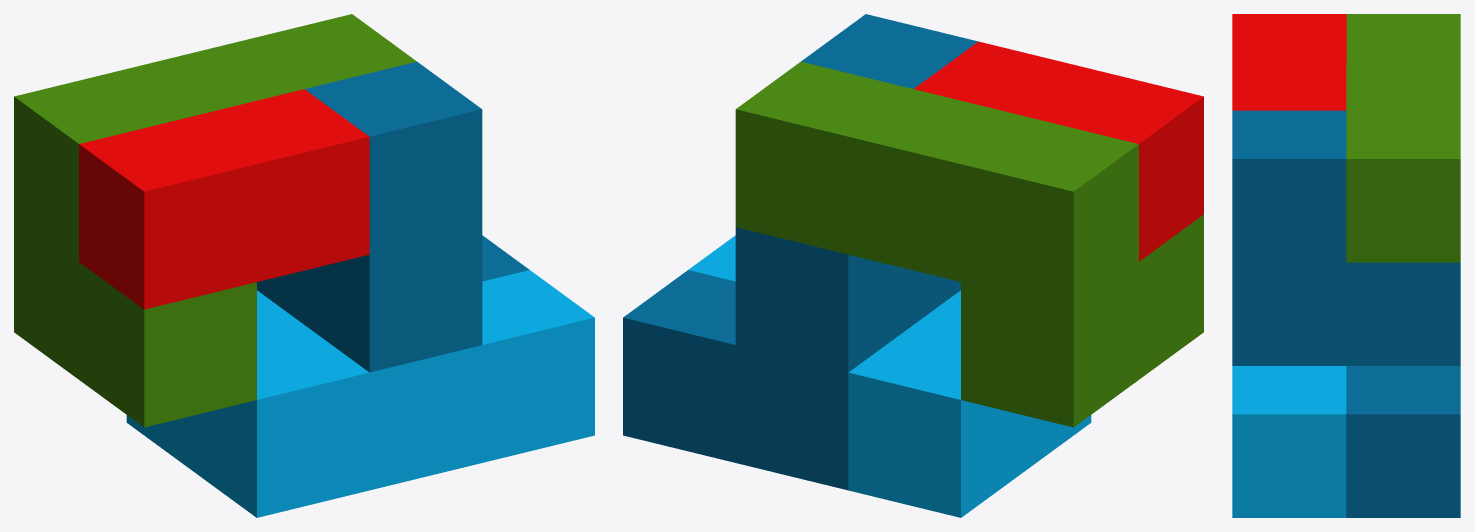
The picture shows the model from 3 angles, left to right: view 1: azimuth 30°, elevation 25°; view 2: azimuth 150°, elevation 25°; view 3: azimuth 270°, elevation 25°; orthographic projection. The views are drawn at different scales.
Parts seen in each view (by area): view 1: mergedBlocks(Clone); view 2: mergedBlocks(Clone); view 3: mergedBlocks(Clone).
Boxes of the visible parts, x1=… form: mergedBlocks(Clone): x1=14, y1=14, x2=594, y2=517; mergedBlocks(Clone): x1=623, y1=14, x2=1203, y2=517; mergedBlocks(Clone): x1=1232, y1=14, x2=1460, y2=517.
Bounding box in the file's own units: 4 × 3 × 2.
4 materials, 4 textured.
